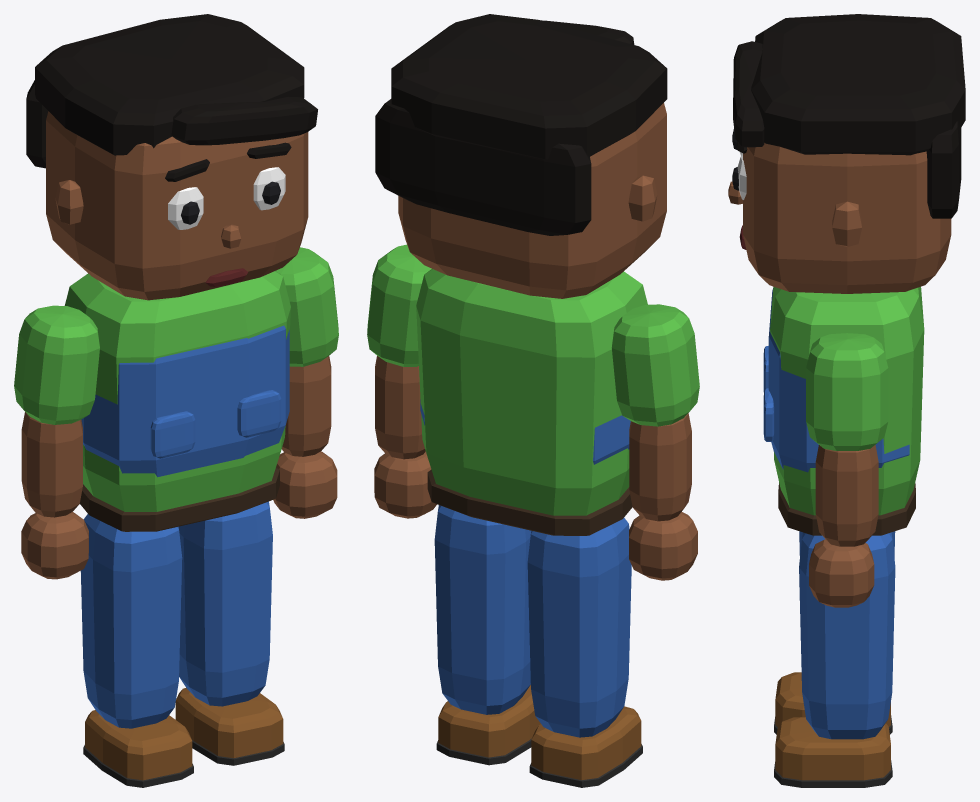
Rendered from hero-f.glb.
The picture shows the model from 3 angles, left to right: view 1: azimuth 30°, elevation 25°; view 2: azimuth 150°, elevation 25°; view 3: azimuth 270°, elevation 25°; orthographic projection. The views are drawn at different scales.
Visible parts, largest first — view 1: head, torso, leg-right, leg-left, arm-right, arm-left; view 2: head, torso, leg-right, leg-left, arm-right, arm-left; view 3: head, torso, leg-left, arm-left, leg-right.
Boxes of the visible parts, left/top/right/bottom form: head: left=26, top=14, right=317, bottom=300; torso: left=64, top=271, right=290, bottom=531; leg-right: left=80, top=514, right=193, bottom=787; leg-left: left=175, top=501, right=284, bottom=765; arm-right: left=14, top=305, right=99, bottom=579; arm-left: left=273, top=247, right=338, bottom=518; head: left=375, top=14, right=667, bottom=298; torso: left=416, top=269, right=647, bottom=535; leg-right: left=527, top=517, right=642, bottom=787; leg-left: left=434, top=505, right=540, bottom=765; arm-right: left=611, top=304, right=699, bottom=580; arm-left: left=367, top=244, right=436, bottom=518; head: left=728, top=14, right=965, bottom=293; torso: left=763, top=286, right=924, bottom=535; leg-left: left=774, top=532, right=895, bottom=787; arm-left: left=806, top=333, right=888, bottom=607; leg-right: left=774, top=531, right=895, bottom=734.
Size of the model in its own units: 1.29 by 2.73 by 0.8497.
